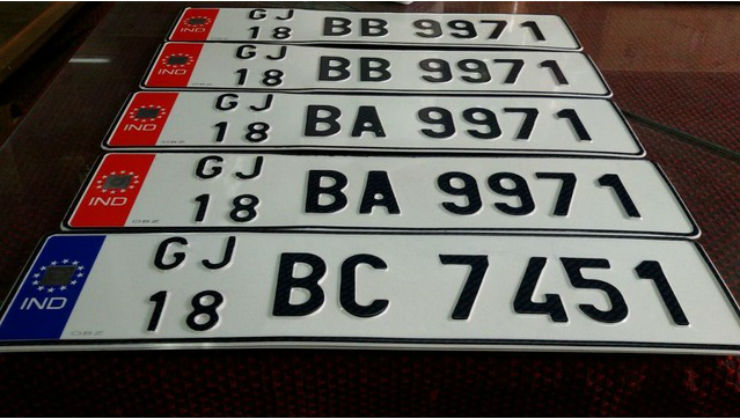number_plate: (76, 151, 703, 237), (104, 86, 647, 158), (122, 40, 618, 99)
